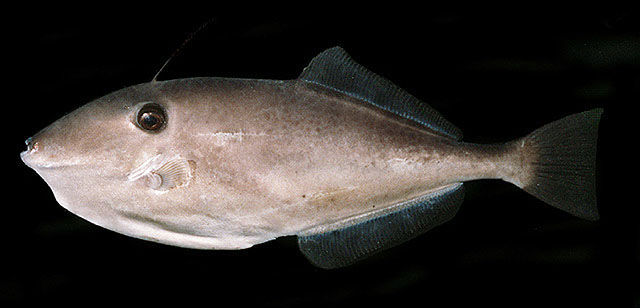fish: (20, 77, 602, 264)
